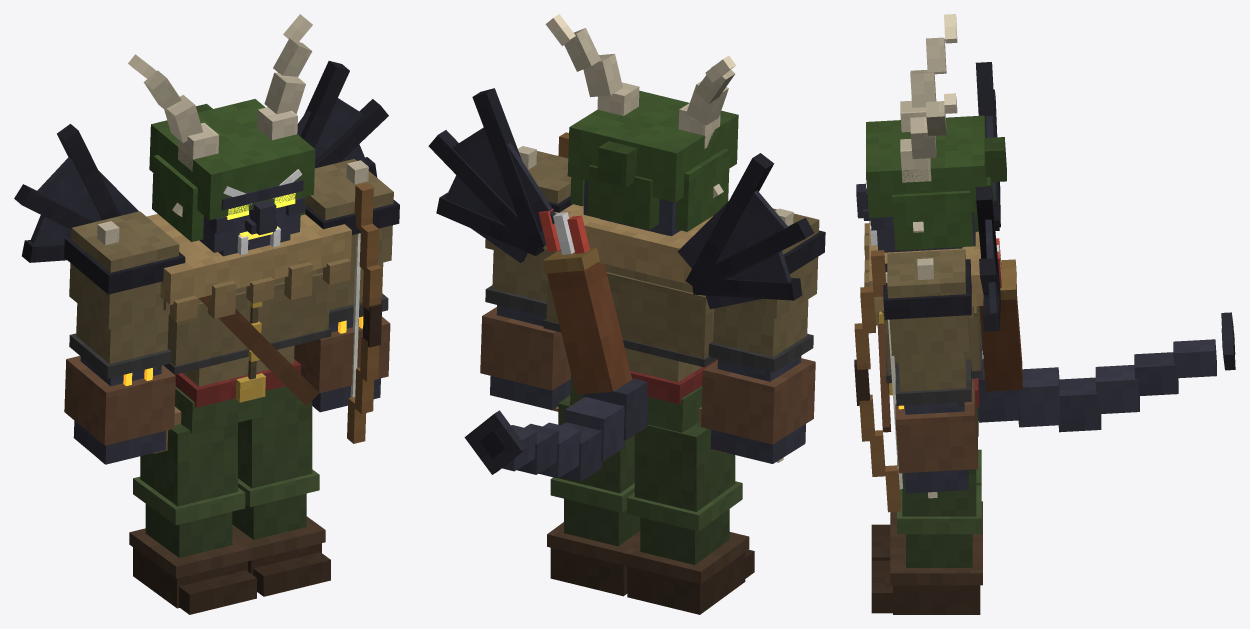
The model's file is demon_chasseur_v3.glb.
3 views of the same model, side by side, from view 1: azimuth 30°, elevation 25°; view 2: azimuth 150°, elevation 25°; view 3: azimuth 270°, elevation 25° (orthographic). The views are drawn at different scales.
Parts seen in each view (by area): view 1: Torso, Head, ArmR, LegR, LegL, ArmL, HandL; view 2: Torso, Head, LegR, ArmR, ArmL, LegL; view 3: Torso, ArmL, Head, LegL, HandL, LegR.
Boxes of the visible parts, x1,y1,x2,y2 form: Torso: (14,61,388,453); Head: (128,14,315,256); ArmR: (64,211,185,464); LegR: (129,422,256,614); LegL: (232,401,330,596); ArmL: (294,159,399,412); HandL: (347,182,382,443); Torso: (428,88,813,481); Head: (545,14,738,236); LegR: (623,423,754,614); ArmR: (701,208,825,463); ArmL: (480,146,572,410); LegL: (547,395,640,596); Torso: (864,62,1235,436); ArmL: (883,249,977,498); Head: (856,14,1006,252); LegL: (871,469,982,614); HandL: (854,250,902,512); LegR: (871,449,982,560).
Bounding box in the file's own units: 1.58 × 2.2 × 1.44.
47 materials, 47 textured.
